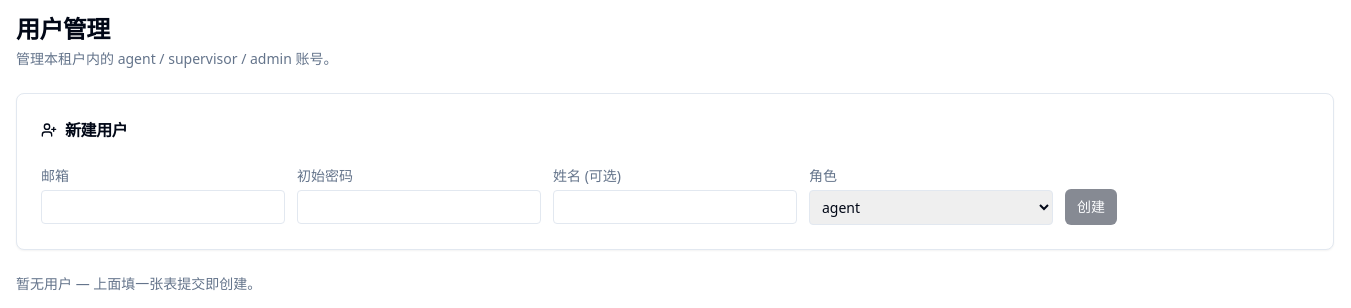
Test: AdminUsersPage (Tier 2 Task 2.2) › disables the create submit until email + password are filled
The width and height of the screenshot is (1351, 308).
Check: the button with test id "user-create-submit" is disabled, box [1065,189,1117,225]
In the field with test id "user-create-email": [163, 207] box [41,190,285,224], type "newuser@example.com"
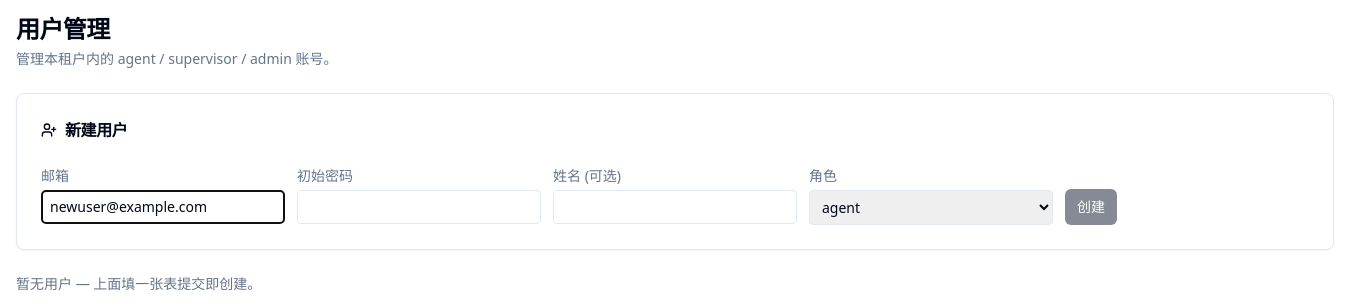
Check: the button with test id "user-create-submit" is disabled, box [1065,189,1117,225]
In the password field with test id "user-create-password": [419, 207] box [297,190,541,224], type "shortpw"
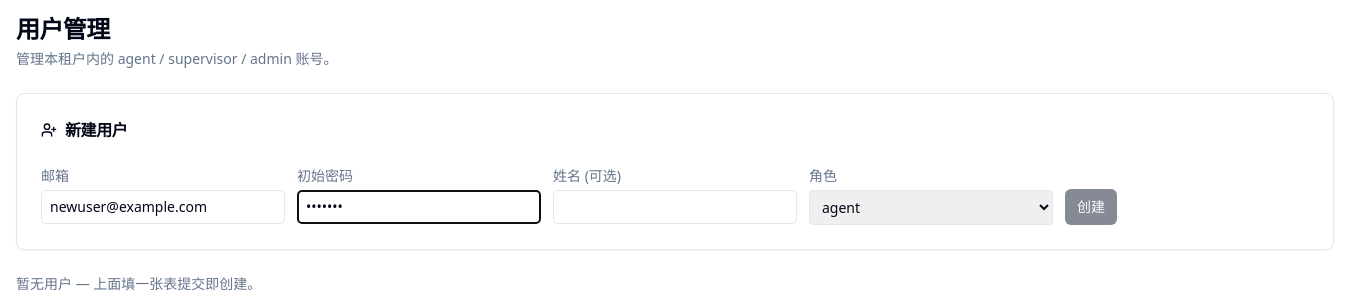
Check: the button with test id "user-create-submit" is disabled, box [1065,189,1117,225]
In the password field with test id "user-create-password": [419, 207] box [297,190,541,224], type "X"
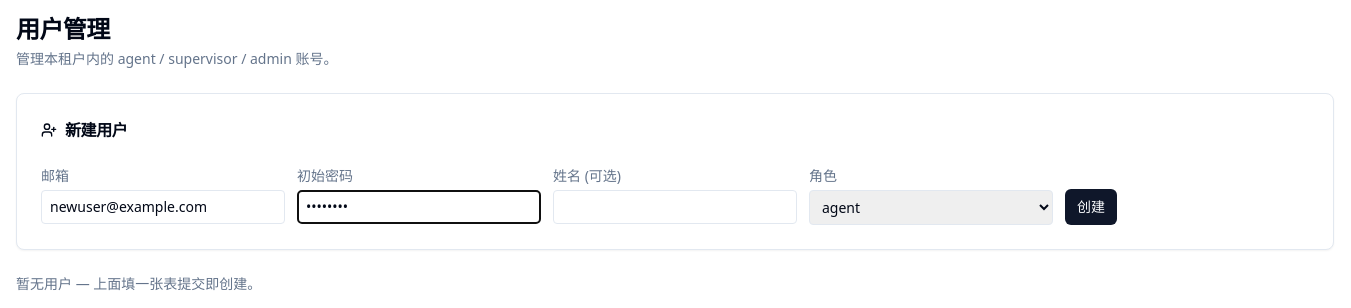
Check: the button with test id "user-create-submit" is enabled, box [1065,189,1117,225]
